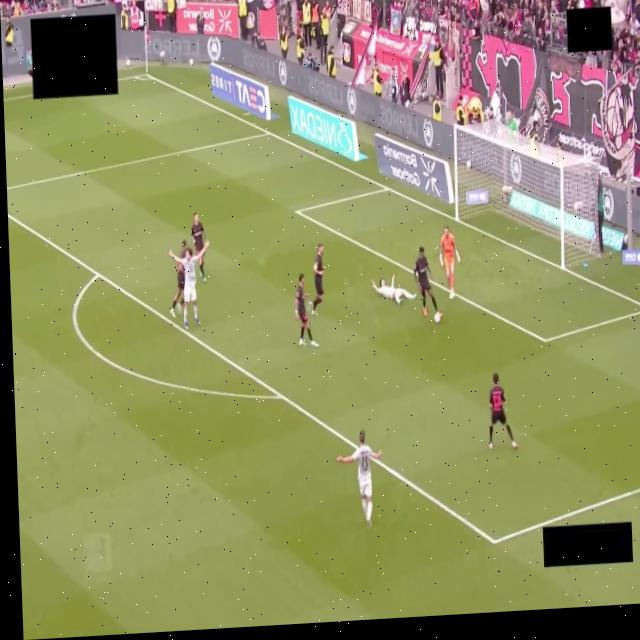ball: (434, 312, 440, 323)
player: (337, 431, 381, 525), (168, 241, 208, 329), (488, 373, 517, 449), (413, 248, 441, 317), (295, 273, 317, 347), (439, 226, 460, 299), (371, 274, 416, 305), (309, 245, 323, 315), (170, 262, 184, 316), (191, 213, 205, 253)
